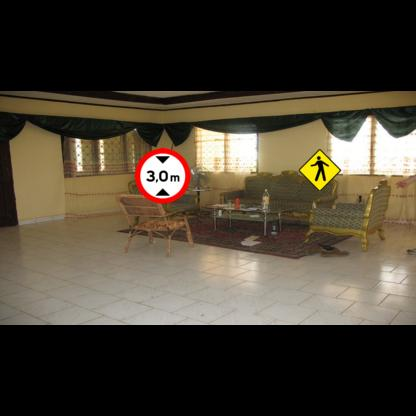A-32a: (298, 149, 341, 192)
R-15: (135, 148, 191, 203)
